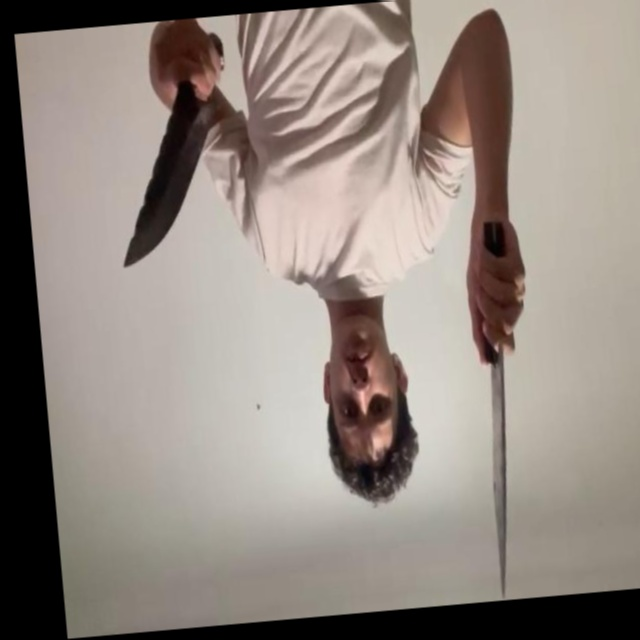Sharp-Object: (110, 103, 226, 269), (478, 350, 524, 595)
